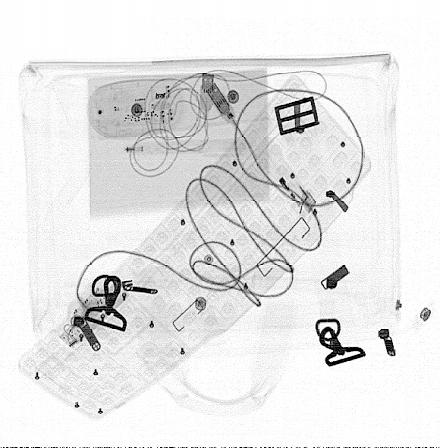Lighter: (259, 144, 317, 215)
